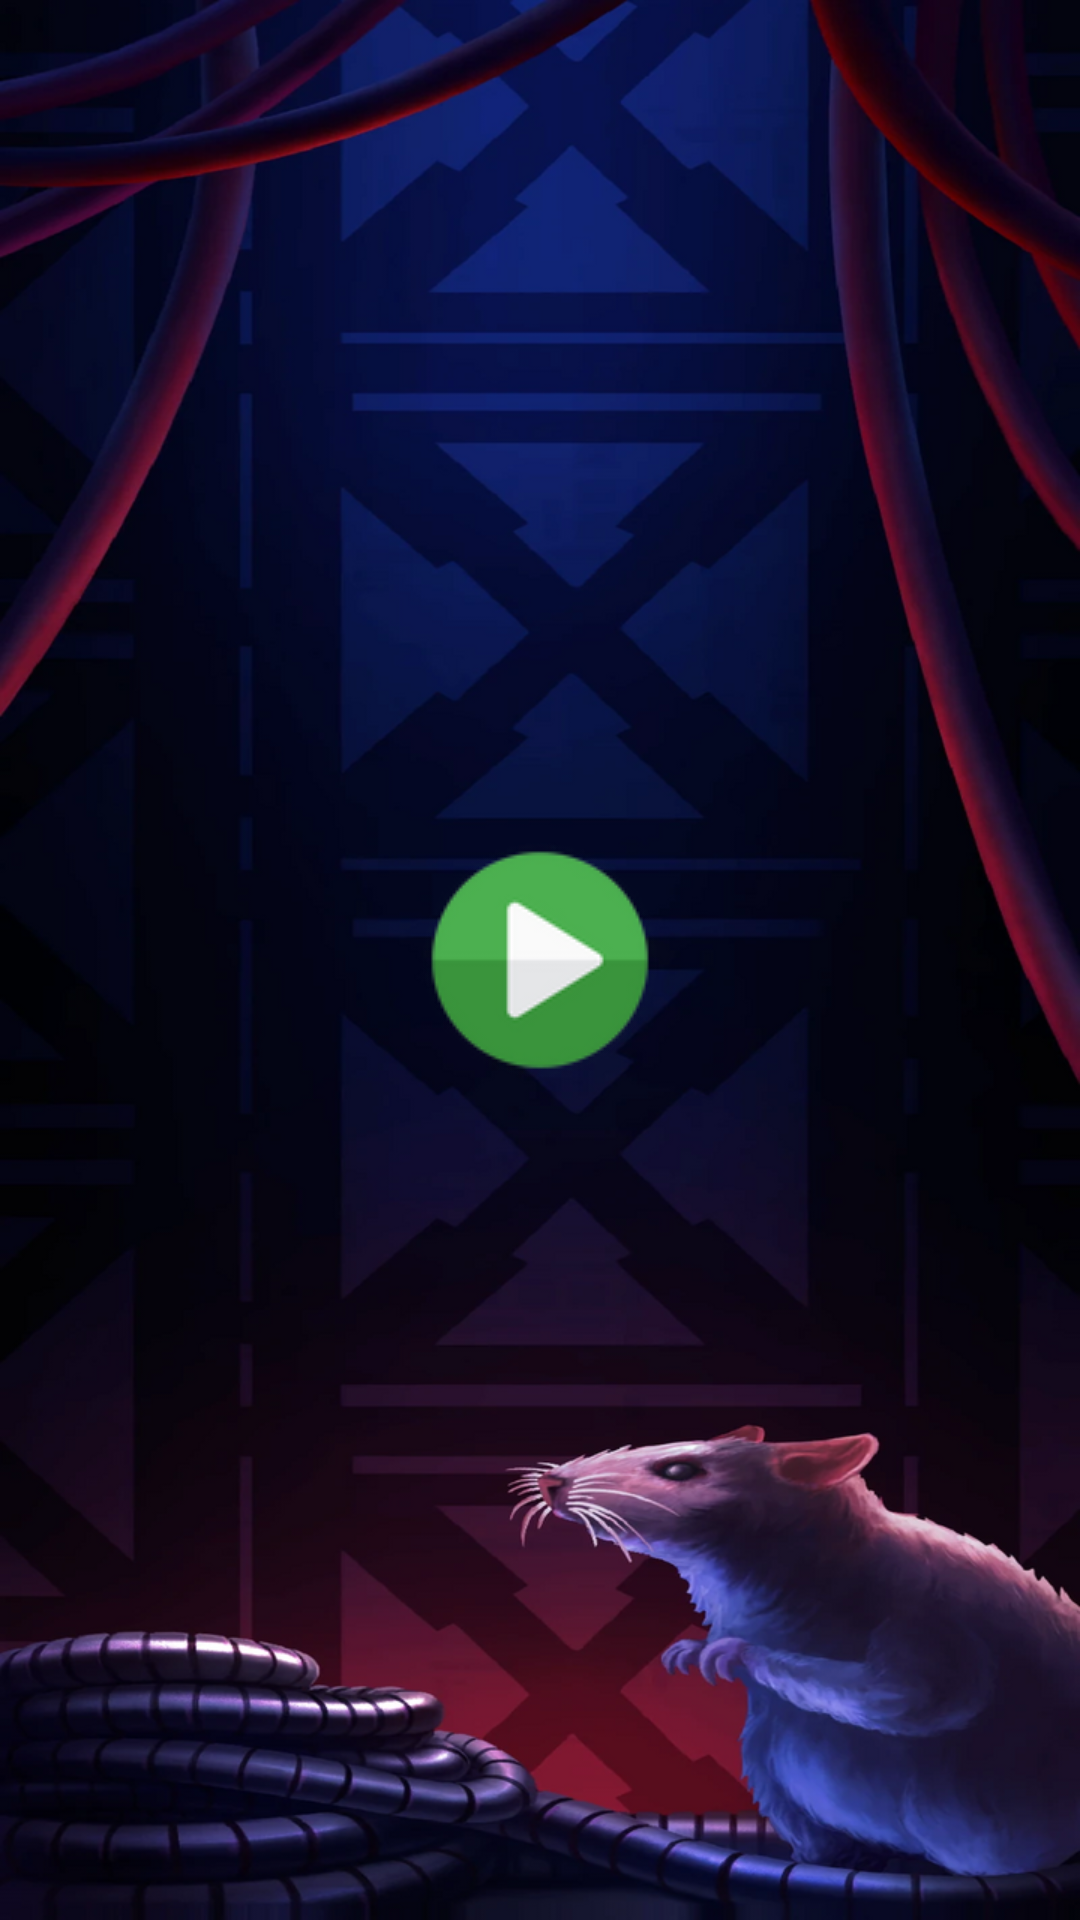

Icon bounding boxes for this 1080x1920 phone screenshot, format [x1=x1, y1=y1, x2=x2, y2=y2]:
play: [x1=420, y1=851, x2=660, y2=1080]
